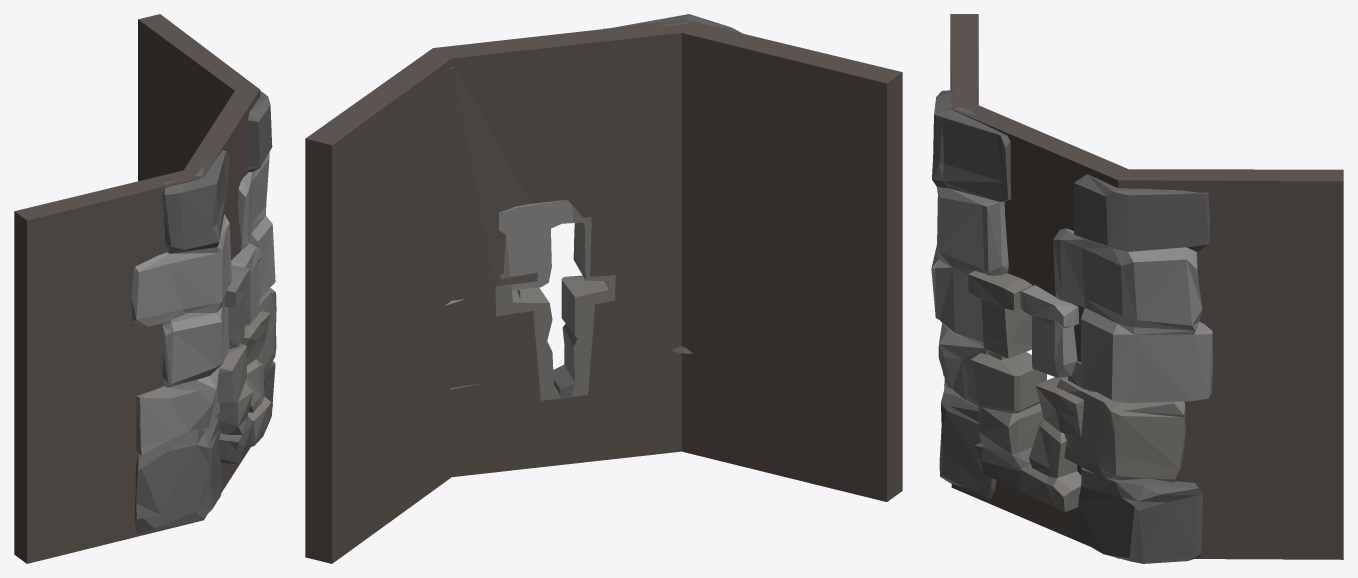
File: MCastle_OctWalls_CrossWindow.FBX
3 views of the same model, side by side, from view 1: azimuth 30°, elevation 25°; view 2: azimuth 150°, elevation 25°; view 3: azimuth 270°, elevation 25° (orthographic). The views are drawn at different scales.
Visible parts, largest first — view 1: MCastle_OctWalls_CrossWindow_LOD0; view 2: MCastle_OctWalls_CrossWindow_LOD0; view 3: MCastle_OctWalls_CrossWindow_LOD0.
Part boxes in pixels (left/top/right/bottom): MCastle_OctWalls_CrossWindow_LOD0: left=14, top=14, right=276, bottom=563; MCastle_OctWalls_CrossWindow_LOD0: left=305, top=14, right=902, bottom=563; MCastle_OctWalls_CrossWindow_LOD0: left=931, top=14, right=1343, bottom=563.
Size of what is drawn, in the model's own units: 4.52 by 4.47 by 4.41.
